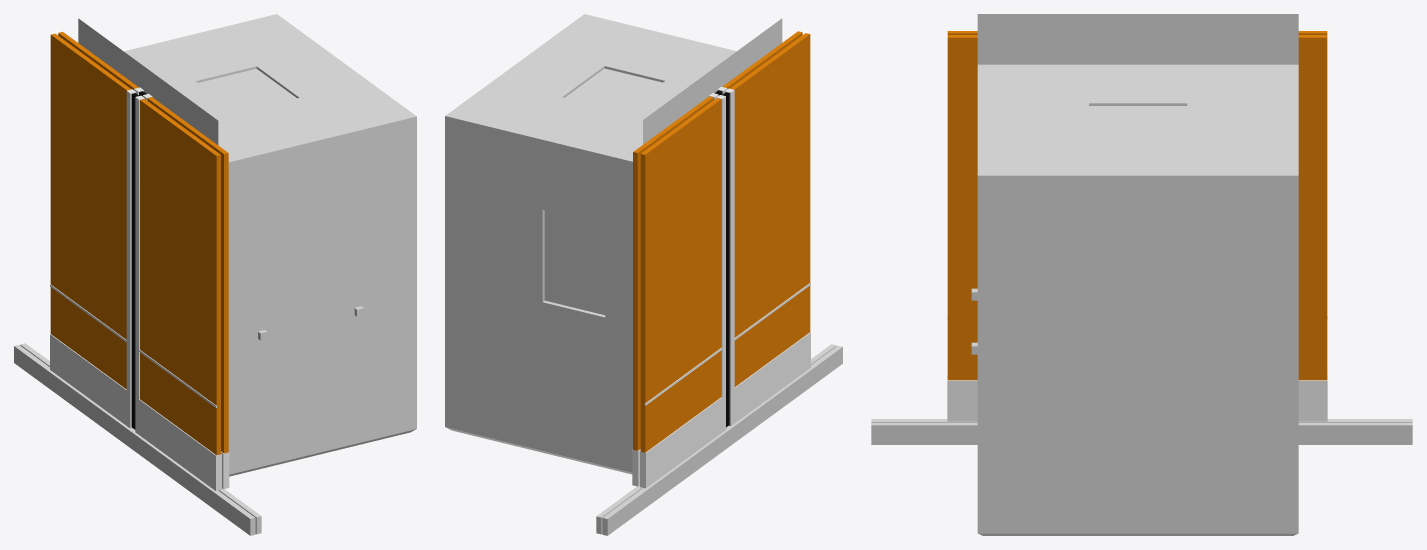
The model's file is elevator.fbx.
3 views of the same model, side by side, from view 1: azimuth 30°, elevation 25°; view 2: azimuth 150°, elevation 25°; view 3: azimuth 270°, elevation 25° (orthographic). The views are drawn at different scales.
Visible parts, largest first — view 1: elevator_room, elevator_door_right, elevator_door_left, eleavtor_rails; view 2: elevator_room, elevator_door_left, elevator_door_right, eleavtor_rails; view 3: elevator_room, elevator_door_right, elevator_door_left, eleavtor_rails.
Boxes of the visible parts, box(x1,y1,x2,y2) form: elevator_room: box(78, 14, 416, 476); elevator_door_right: box(134, 93, 229, 490); elevator_door_left: box(50, 31, 144, 428); eleavtor_rails: box(14, 343, 261, 535); elevator_room: box(445, 14, 782, 474); elevator_door_left: box(632, 92, 726, 488); elevator_door_right: box(716, 31, 810, 426); eleavtor_rails: box(596, 344, 842, 535); elevator_room: box(971, 14, 1298, 535); elevator_door_right: box(947, 31, 977, 421); elevator_door_left: box(1298, 31, 1327, 421); eleavtor_rails: box(871, 419, 1412, 444).
Bounding box in the file's own units: 1.53 × 2.61 × 2.91.
